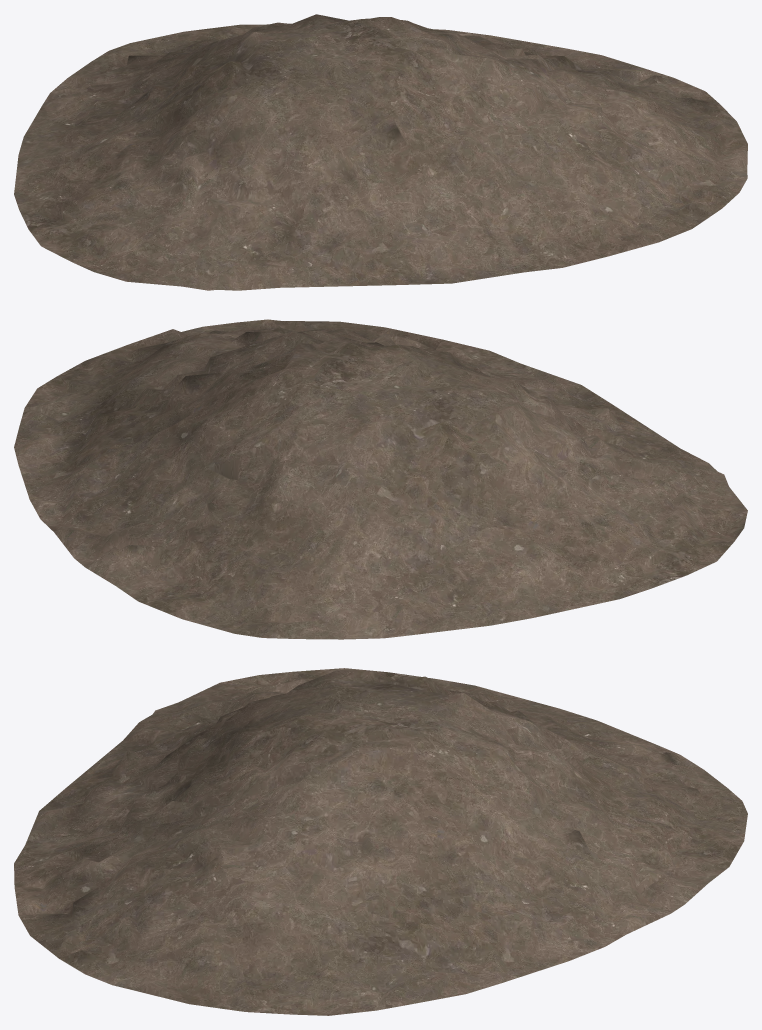
Rendered from brick_pile_3x3.glb.
3 renders of one model, top to bottom at view 1: azimuth 30°, elevation 25°; view 2: azimuth 150°, elevation 25°; view 3: azimuth 270°, elevation 25°, orthographic. The views are drawn at different scales.
Parts seen in each view (by area): view 1: brick_pile_3x3; view 2: brick_pile_3x3; view 3: brick_pile_3x3.
Boxes of the visible parts, x1,y1,x2,y2 form: brick_pile_3x3: (14,14,747,290); brick_pile_3x3: (14,319,747,639); brick_pile_3x3: (14,668,747,1015).
Size of the model in its own units: 6.2 by 1.1 by 5.53.
Materials: 1 (1 with a texture image).
